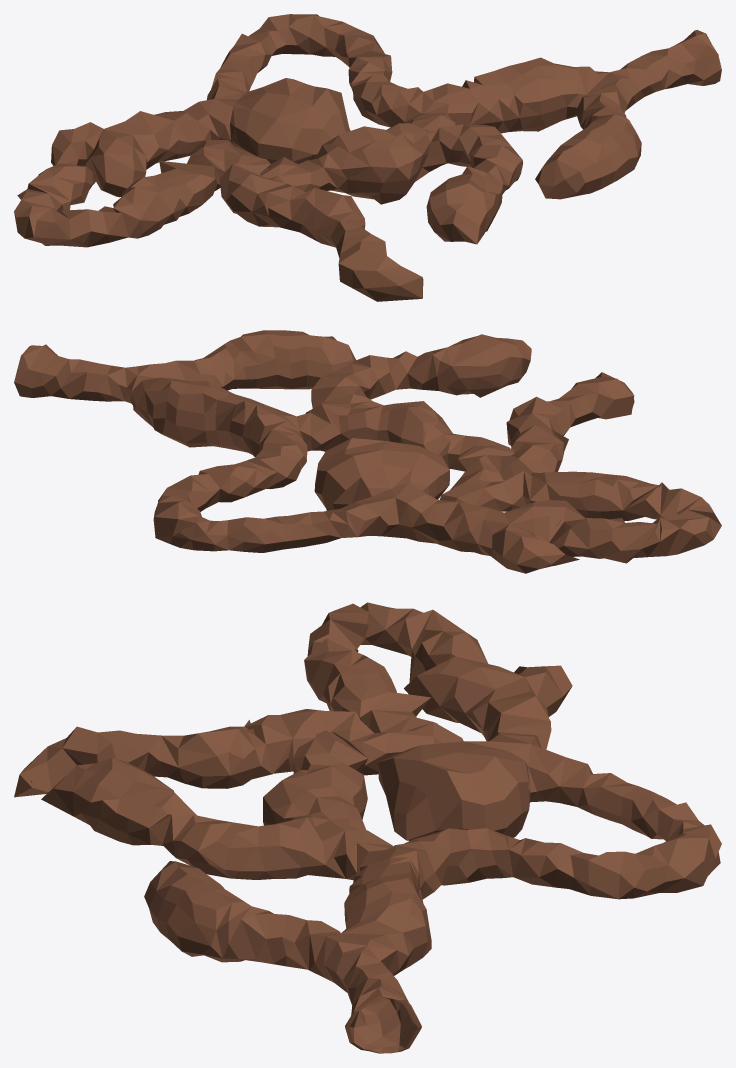
File: BigCaveExactMkIICaveOnly.fbx
3 renders of one model, top to bottom at view 1: azimuth 30°, elevation 25°; view 2: azimuth 150°, elevation 25°; view 3: azimuth 270°, elevation 25°, orthographic. The views are drawn at different scales.
Parts seen in each view (by area): view 1: ExactCave; view 2: ExactCave; view 3: ExactCave.
Boxes of the visible parts, x1,y1,x2,y2 form: ExactCave: (14, 14, 721, 301); ExactCave: (14, 330, 721, 573); ExactCave: (14, 602, 721, 1053).
Bounding box in the file's own units: 1618 × 167 × 1177.
